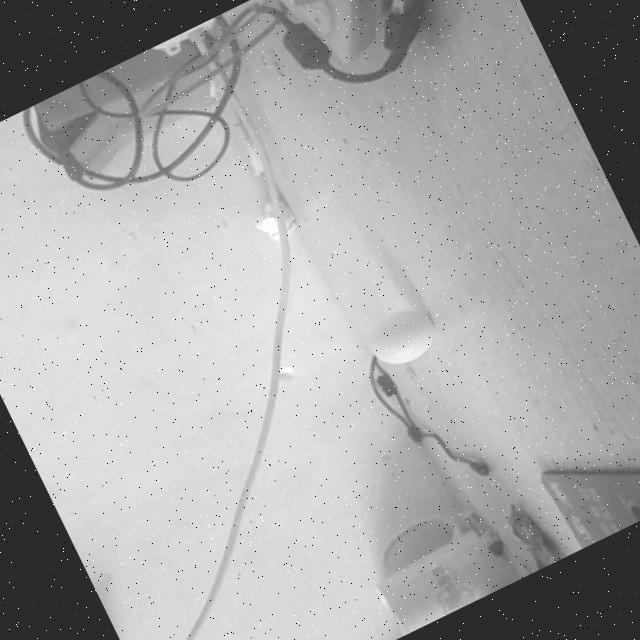ping-pong-ball: (362, 298, 442, 371)
